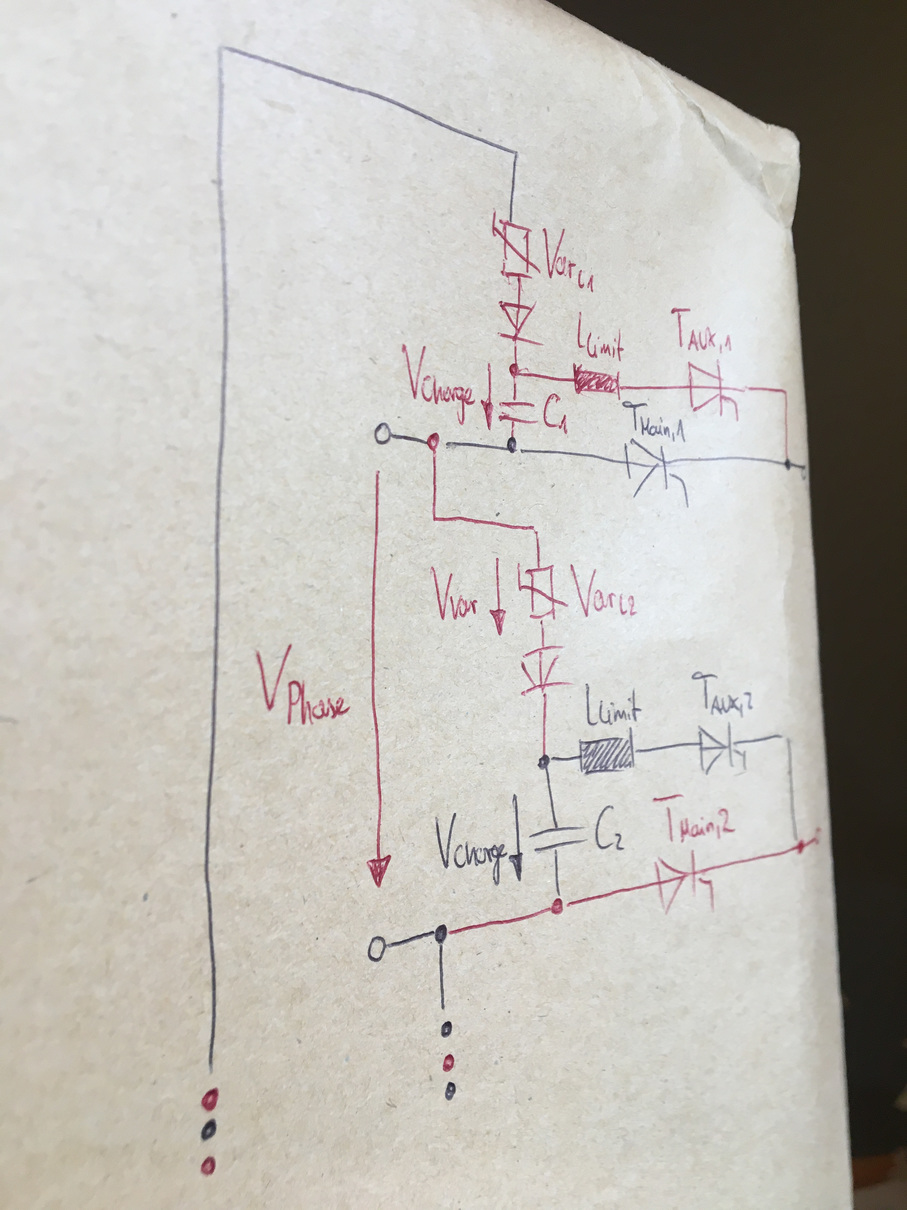capacitor.unpolarized: (528, 823, 588, 854), (496, 396, 539, 427)
diode: (518, 643, 573, 696), (495, 299, 545, 347)
inductor: (577, 725, 637, 776), (570, 362, 623, 402)
junction: (425, 431, 450, 454), (549, 893, 570, 918), (431, 922, 452, 946), (212, 37, 233, 58), (505, 435, 524, 457), (507, 361, 525, 384), (536, 752, 555, 771), (528, 521, 544, 538), (792, 837, 806, 855), (429, 511, 443, 526), (778, 731, 794, 744), (783, 455, 793, 473), (510, 148, 524, 159), (780, 386, 791, 399)
terminal: (197, 1064, 222, 1114), (365, 933, 391, 965), (435, 1003, 456, 1040), (373, 420, 393, 446), (812, 826, 823, 847), (798, 462, 808, 482)
text: (253, 643, 354, 727), (399, 342, 478, 427), (432, 811, 509, 886), (650, 792, 737, 844), (567, 562, 640, 620), (541, 225, 596, 294), (667, 305, 735, 357), (689, 669, 756, 719), (428, 564, 480, 622), (621, 399, 687, 444), (574, 309, 627, 364), (583, 681, 643, 726), (591, 802, 629, 852), (541, 391, 571, 436)
thyristor: (620, 437, 693, 502), (650, 847, 718, 916), (685, 358, 742, 418), (696, 720, 750, 776)
varistor: (487, 208, 543, 284), (516, 560, 569, 623)
